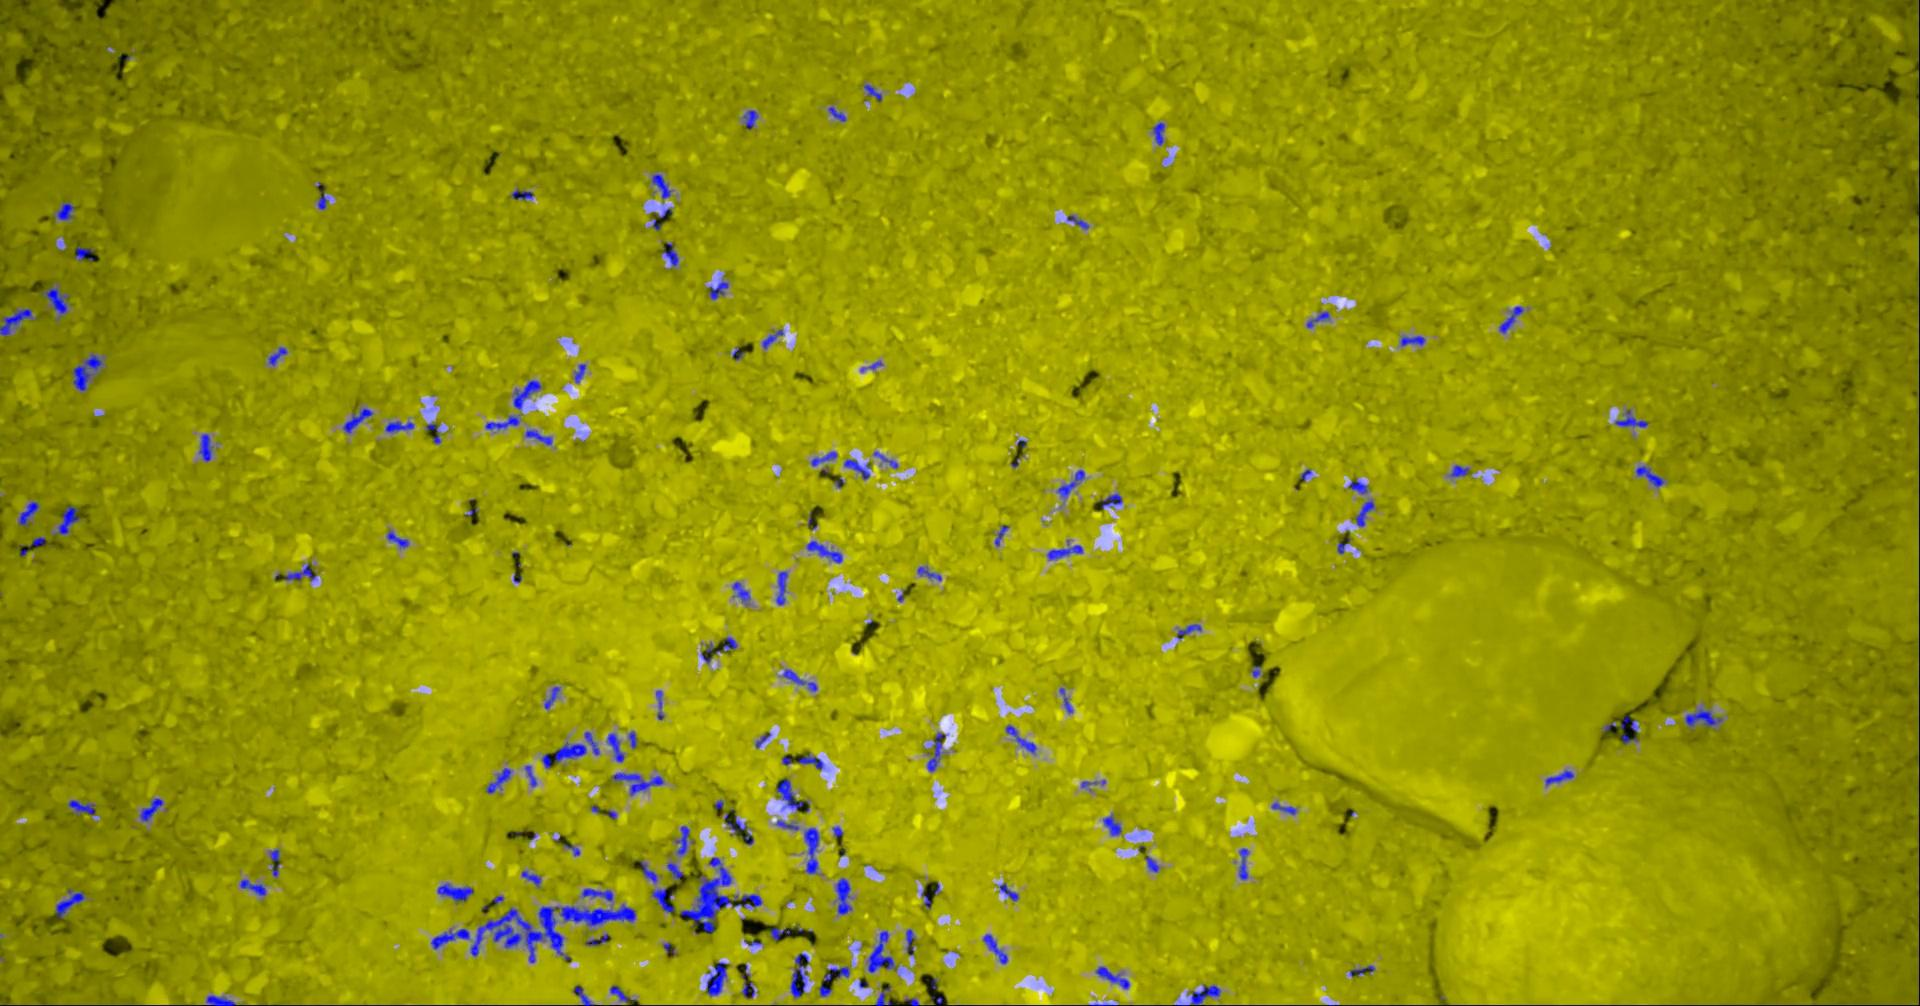ant: (543, 741, 588, 768), (613, 772, 665, 795), (869, 930, 897, 972), (74, 354, 104, 390), (778, 779, 810, 810), (1, 307, 37, 335), (1175, 984, 1222, 1005), (703, 636, 738, 663), (57, 888, 86, 918), (1007, 725, 1037, 753), (514, 380, 542, 409), (43, 286, 70, 316), (344, 406, 375, 433), (432, 929, 471, 949), (808, 540, 844, 561), (792, 953, 810, 997), (1058, 469, 1086, 497), (805, 827, 822, 873), (928, 732, 947, 771), (984, 934, 1010, 963), (783, 669, 818, 691), (1097, 967, 1131, 988), (1500, 306, 1525, 333), (1049, 540, 1084, 559), (1688, 708, 1723, 727), (709, 962, 729, 995), (58, 506, 81, 533), (439, 883, 475, 901), (837, 876, 853, 915), (488, 767, 512, 793), (1637, 465, 1665, 486), (1617, 409, 1650, 427), (653, 888, 677, 912), (844, 459, 872, 479), (141, 796, 164, 821), (286, 564, 317, 580), (653, 173, 673, 198), (20, 500, 41, 526), (726, 812, 748, 835), (1357, 500, 1377, 526), (488, 415, 521, 429), (608, 733, 625, 761), (611, 984, 637, 1001), (654, 208, 674, 230), (1547, 770, 1575, 785), (69, 799, 97, 814), (241, 879, 267, 895), (799, 753, 825, 768), (583, 888, 615, 901), (875, 451, 899, 467), (201, 433, 215, 461), (764, 329, 785, 348), (527, 429, 552, 445), (1103, 814, 1123, 835), (575, 986, 596, 1005), (663, 243, 679, 265), (777, 572, 789, 605), (811, 451, 838, 465), (677, 826, 690, 855), (1178, 622, 1203, 638), (585, 730, 601, 754), (269, 345, 288, 365), (710, 281, 730, 298), (389, 531, 410, 547), (641, 860, 658, 882), (825, 967, 851, 981), (1308, 311, 1331, 326), (1100, 493, 1123, 508), (546, 686, 561, 709), (1001, 883, 1020, 901), (919, 567, 943, 580), (734, 580, 750, 601), (876, 984, 893, 1005), (1062, 687, 1074, 713), (387, 420, 415, 432), (58, 201, 76, 218), (523, 870, 542, 887), (427, 423, 442, 443), (1239, 848, 1250, 879), (207, 995, 237, 1005), (1272, 801, 1297, 814), (865, 84, 883, 100), (1350, 478, 1369, 493), (1622, 716, 1641, 732), (745, 109, 759, 130), (1069, 215, 1090, 229), (996, 525, 1010, 545), (270, 848, 281, 876), (526, 765, 538, 786), (668, 862, 684, 879), (77, 245, 95, 260), (587, 934, 610, 945), (657, 690, 665, 719), (772, 927, 792, 940), (1351, 965, 1377, 976), (830, 105, 847, 121), (1402, 335, 1426, 345), (1451, 464, 1470, 476), (907, 929, 916, 955), (1156, 122, 1166, 145), (1147, 855, 1161, 871), (513, 189, 535, 199), (777, 821, 800, 829), (744, 981, 756, 998), (577, 363, 587, 382), (29, 536, 46, 547), (319, 192, 328, 210)
